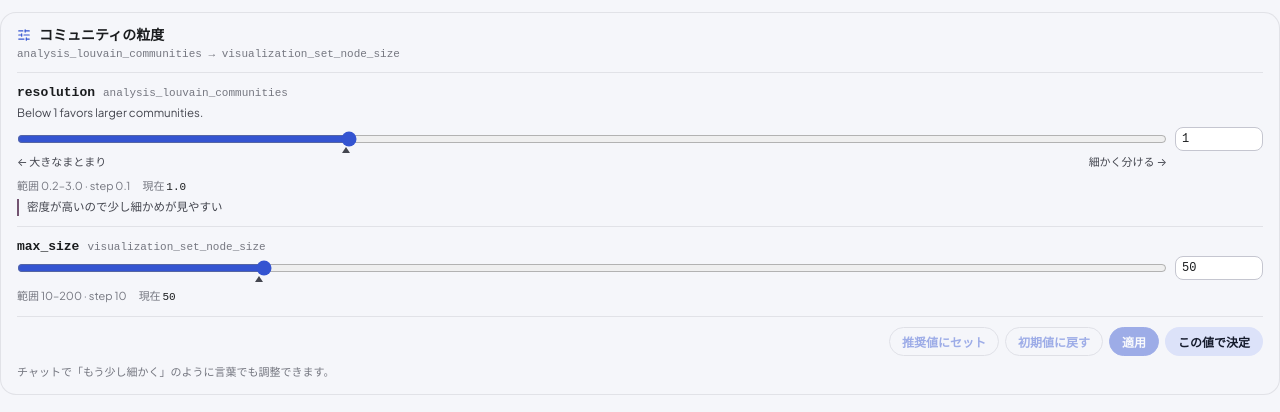
Test case: ParameterTuning › confirms only applied values and hands them to the agent
Expected: the button "この値で決定" is enabled, [1165,327,1263,356]
Set the slider labelled "resolution" to "2.0": (754, 140) [17,132,1167,148]
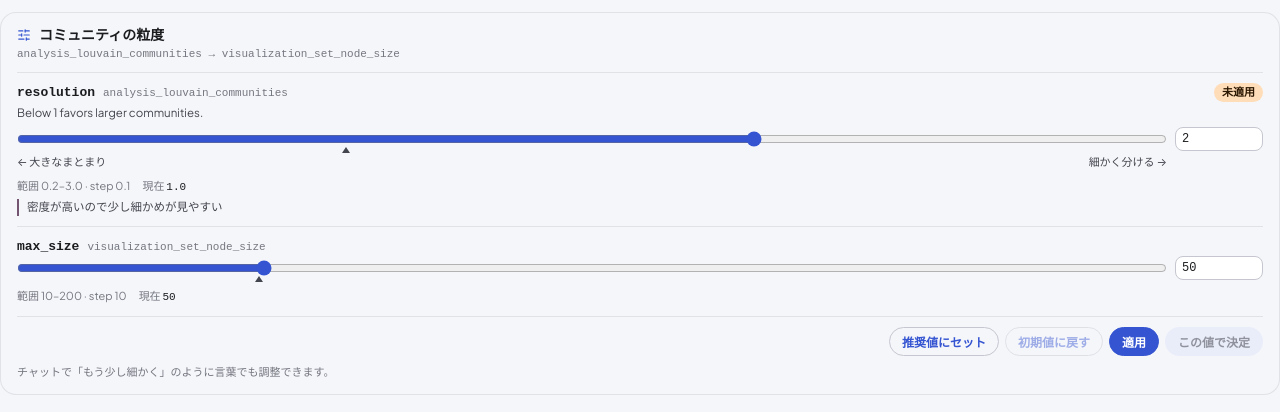
Expected: the button "この値で決定" is disabled, [1165,327,1263,356]
Set the slider labelled "resolution" to "1.0": (349, 140) [17,132,1167,148]
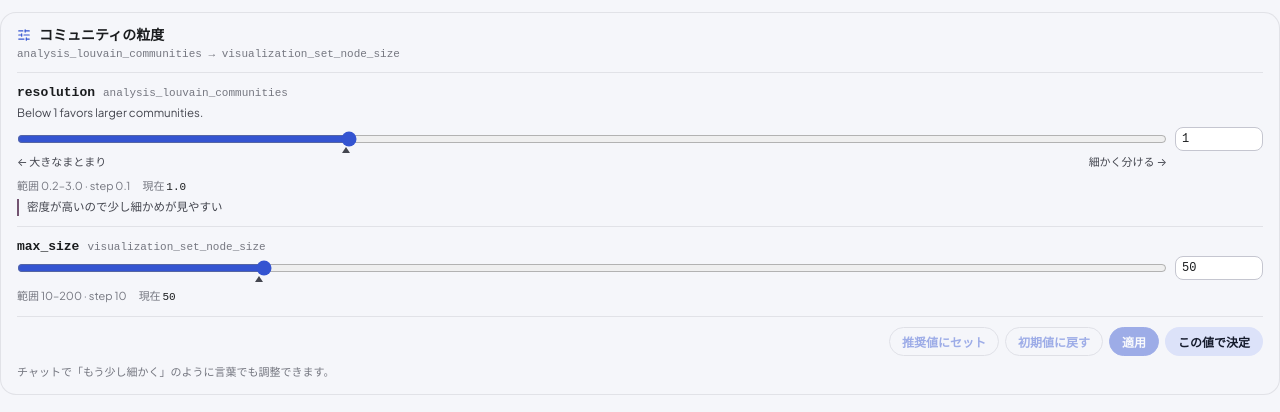
Click the button "この値で決定": (1214, 341) [1165,327,1263,356]
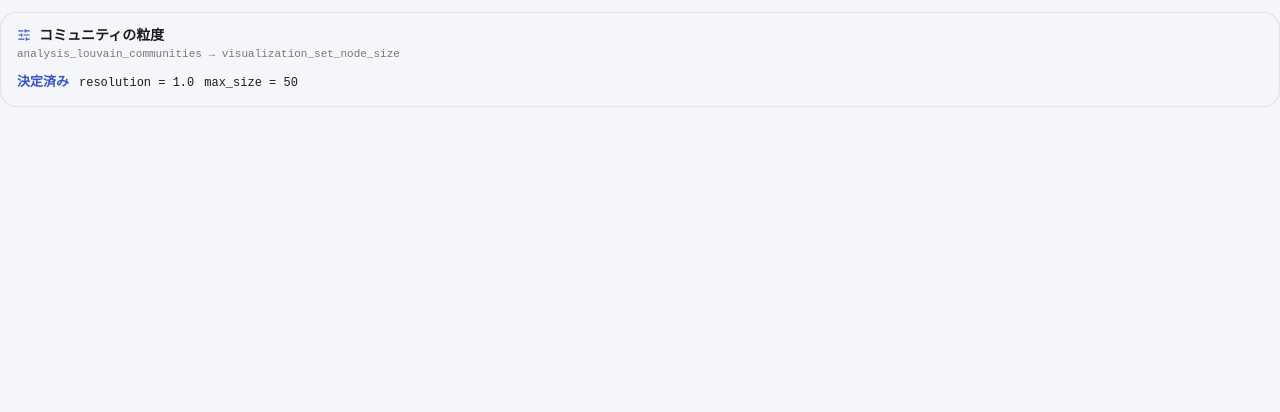
Expected: the text "決定済み" is shown, [17,72,69,92]
